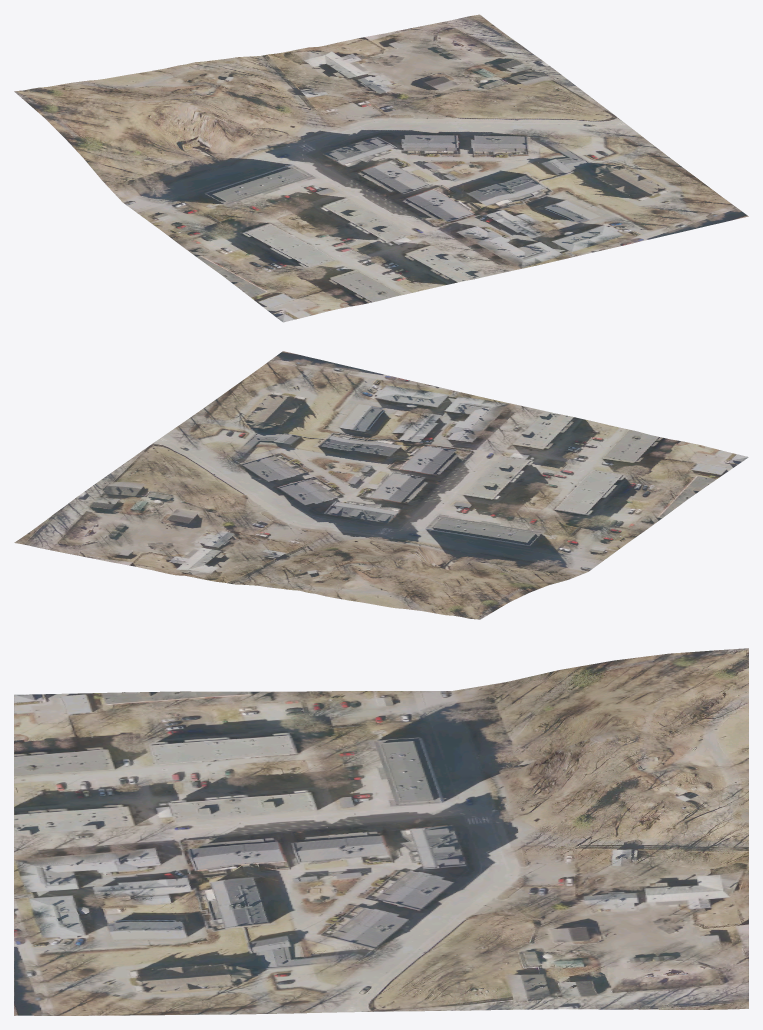
Rendered from CM_Terrain_24486773_6821432.fbx.
3 renders of one model, top to bottom at view 1: azimuth 30°, elevation 25°; view 2: azimuth 150°, elevation 25°; view 3: azimuth 270°, elevation 25°, orthographic. The views are drawn at different scales.
Visible parts, largest first — view 1: CM_Terrain_24486773_6821432_LOD0; view 2: CM_Terrain_24486773_6821432_LOD0; view 3: CM_Terrain_24486773_6821432_LOD0.
Boxes of the visible parts, box(x1,y1,x2,y2) form: CM_Terrain_24486773_6821432_LOD0: box(14, 14, 748, 322); CM_Terrain_24486773_6821432_LOD0: box(14, 351, 748, 619); CM_Terrain_24486773_6821432_LOD0: box(14, 648, 748, 1015).
Size of what is drawn, in the model's own units: 205 by 18.19 by 205.
